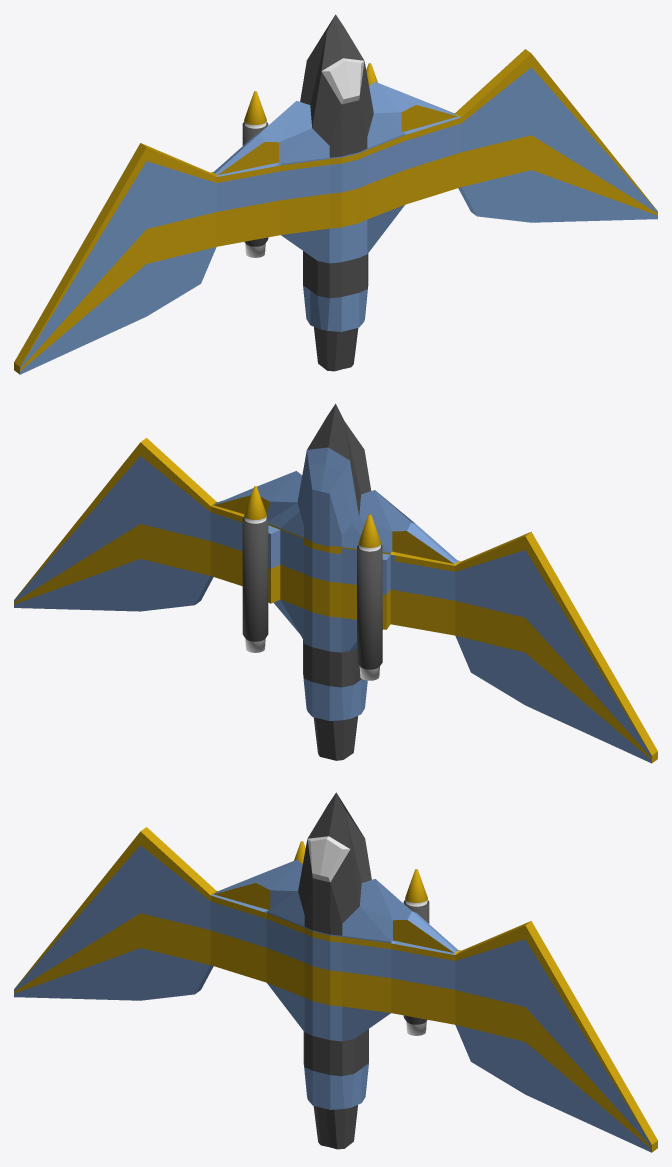
Rendered from Fighter.fbx.
3 views of the same model, one above another, from view 1: azimuth 30°, elevation 25°; view 2: azimuth 150°, elevation 25°; view 3: azimuth 330°, elevation 25° (orthographic).
Visible parts, largest first — view 1: Cube; view 2: Cube; view 3: Cube.
Part boxes in pixels (bbox=[...]): Cube: bbox=[14, 14, 657, 374]; Cube: bbox=[14, 403, 657, 763]; Cube: bbox=[14, 792, 657, 1152].
Size of the model in its own units: 2508 by 1315 by 309.
